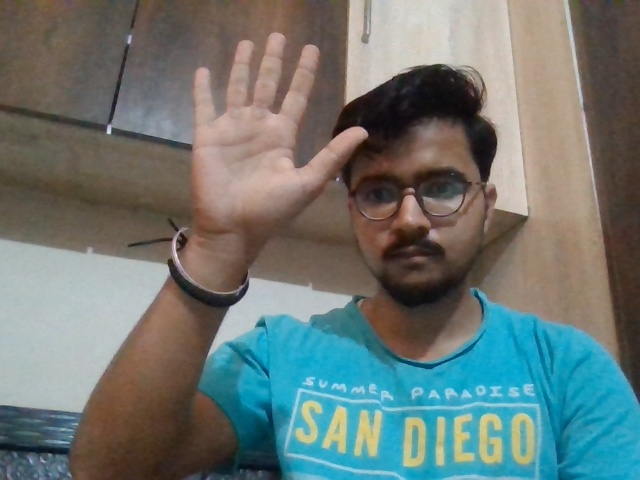hello: (195, 29, 370, 240)
